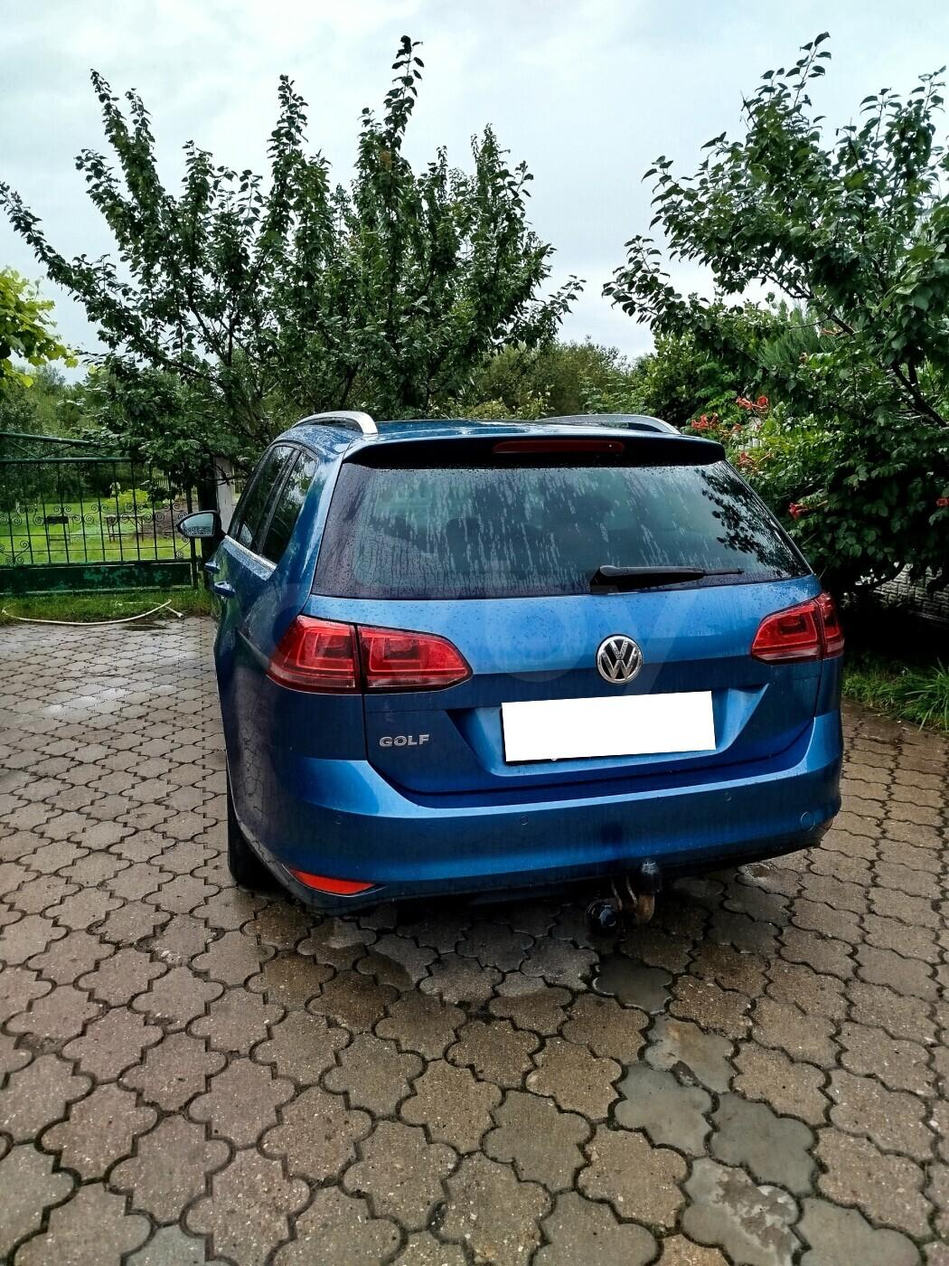Golf_2012-2017: (206, 412, 847, 931)
